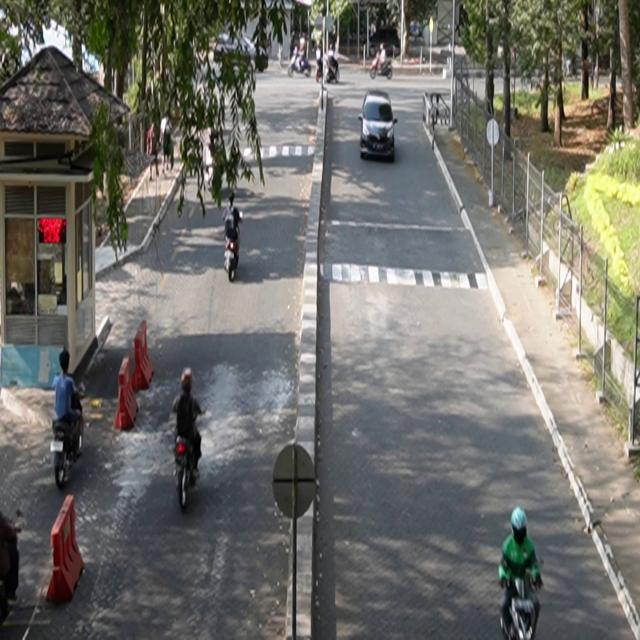car: (359, 90, 399, 163)
